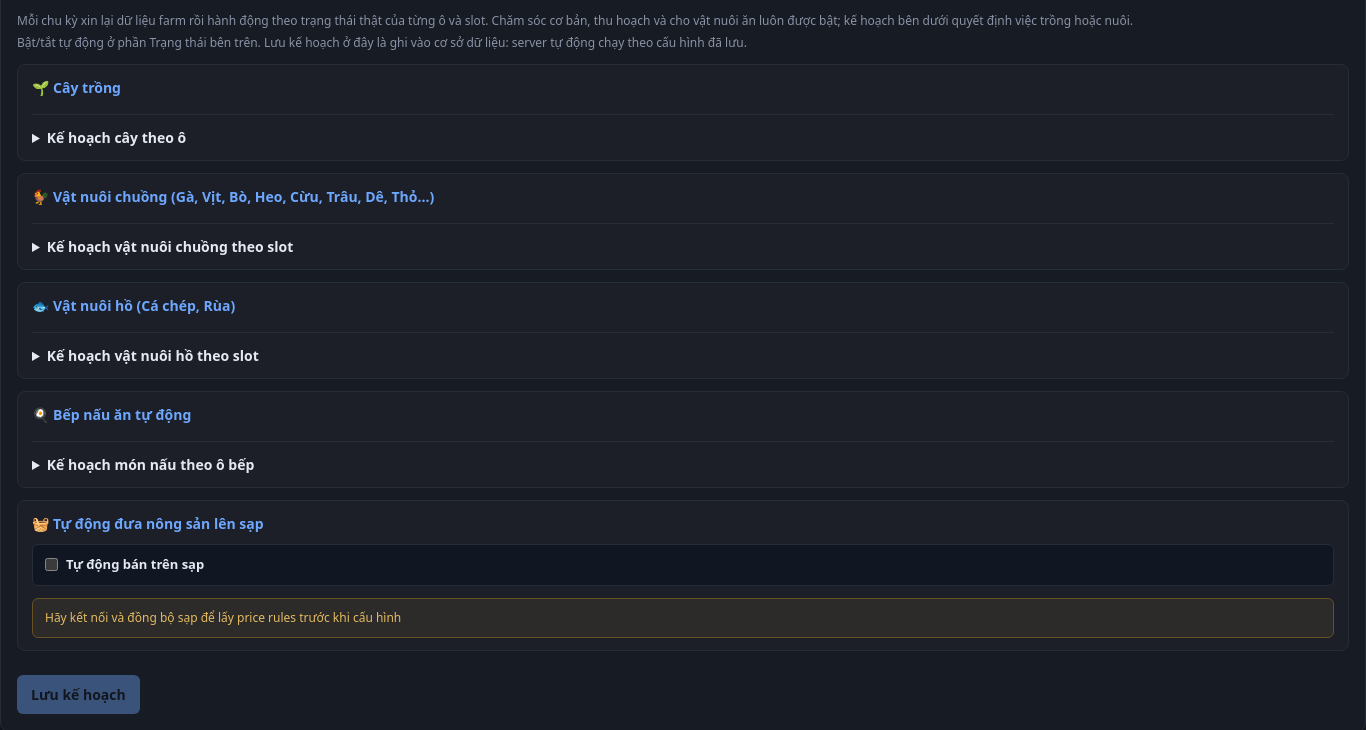
Test: revision conflict giữ draft local và chỉ tải current khi người dùng chọn
Click the heading "Kế hoạch cây theo ô" at (116, 138), box [47, 128, 186, 147]
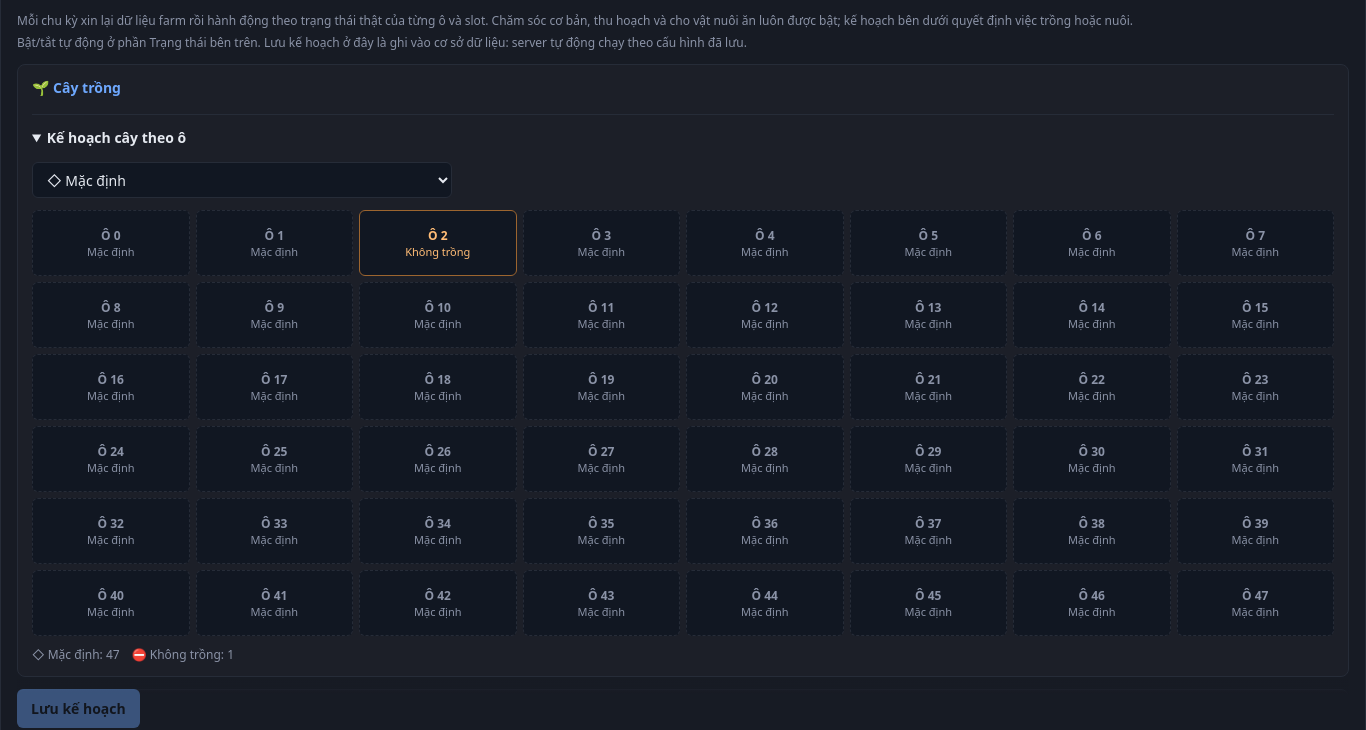
Select "⛔ Không trồng" in the dropdown named "Chọn trạng thái để tô" at (242, 180), box [32, 162, 452, 198]
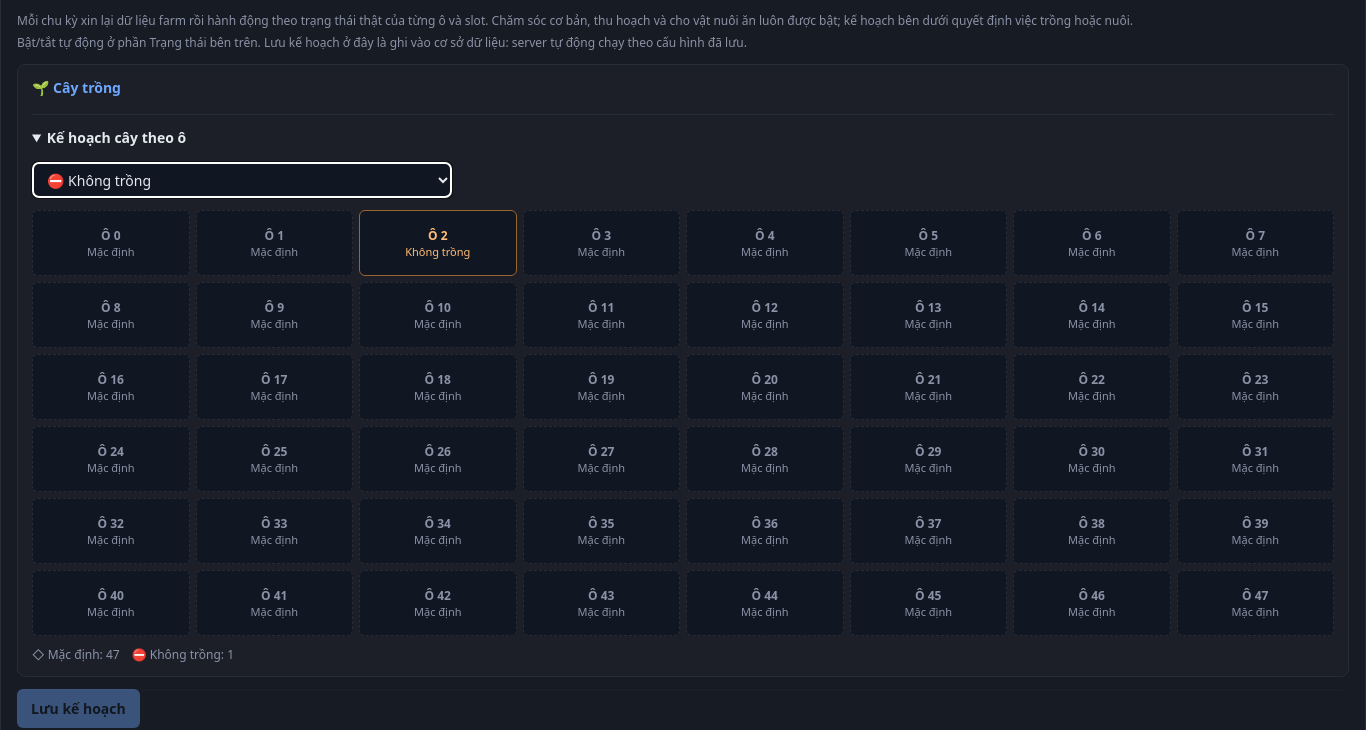
Click the button "Ô 7 Mặc định" at (1255, 243), box [1176, 210, 1334, 276]
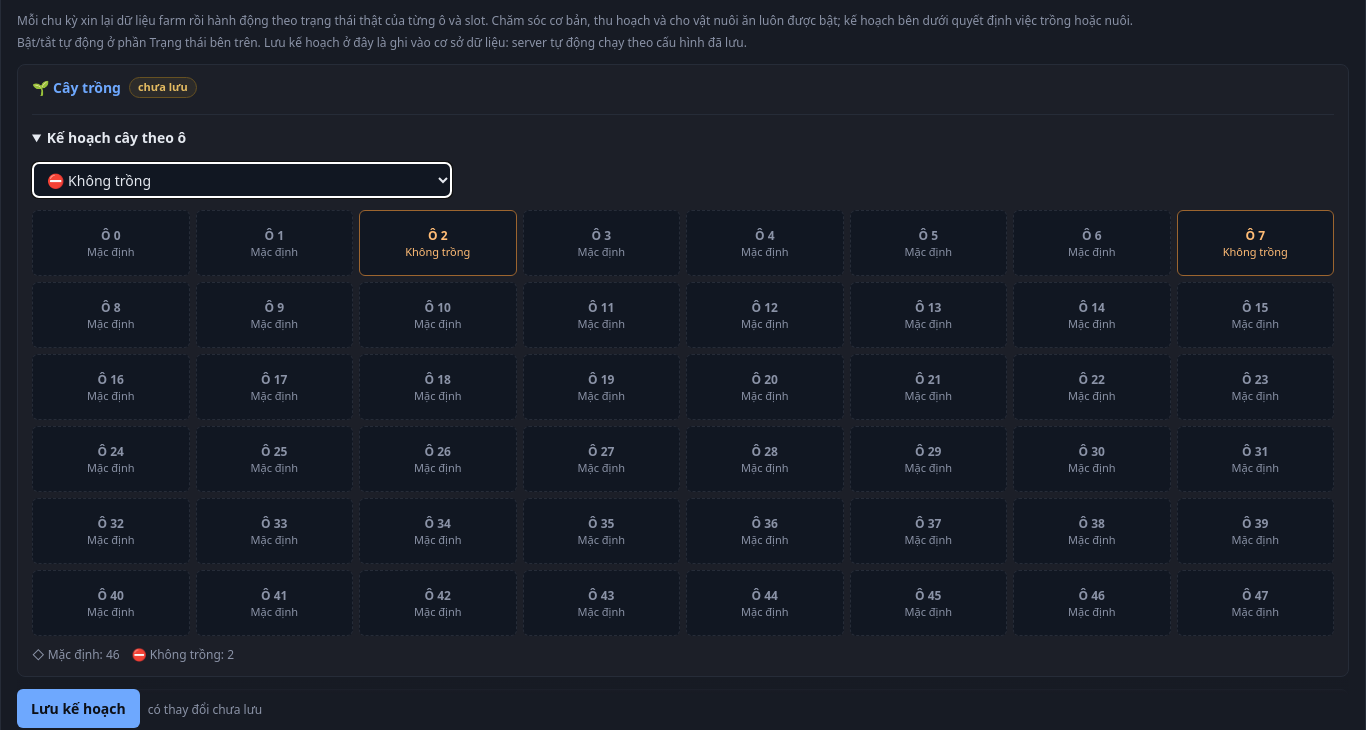
Click the button "Lưu kế hoạch" at (78, 708), box [17, 689, 140, 728]
(page scrolled)
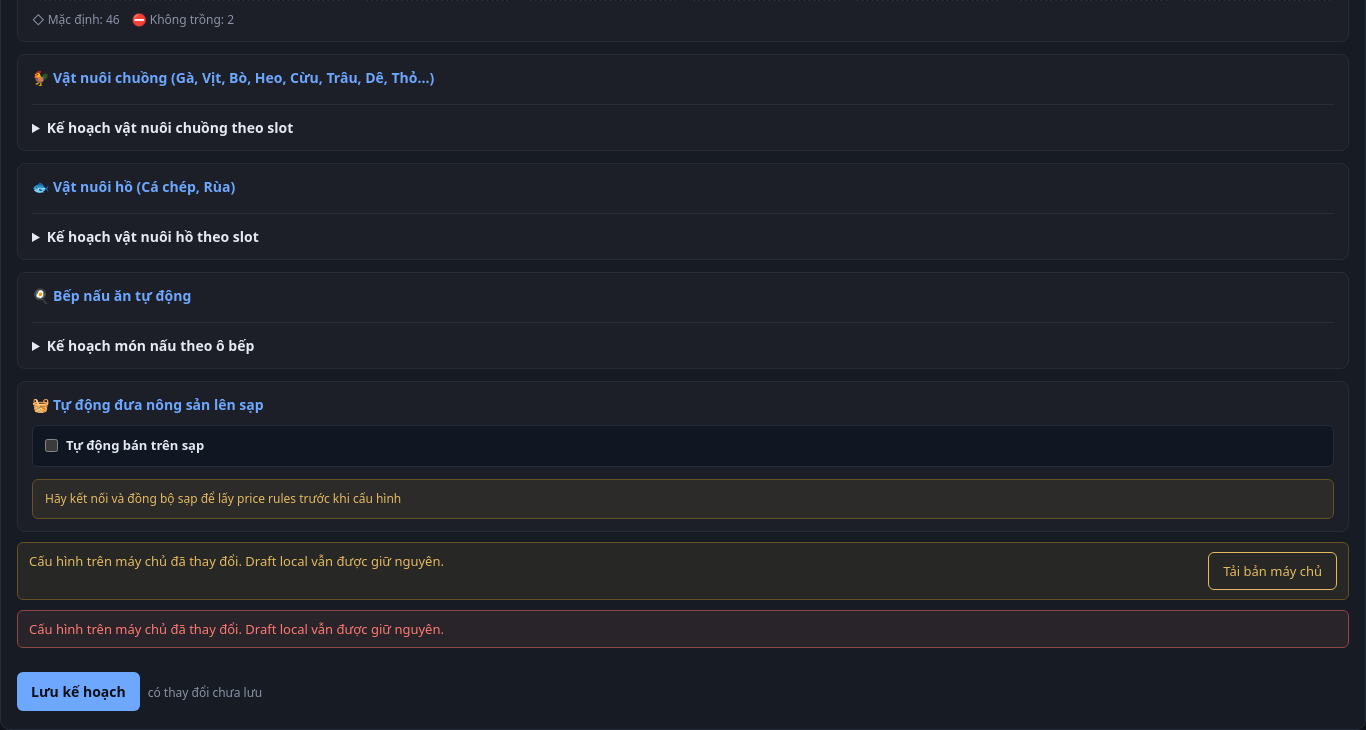
Now the button "Tải bản máy chủ" is shown
Click the button "Tải bản máy chủ" at (1273, 571), box [1208, 552, 1337, 590]
(page scrolled)
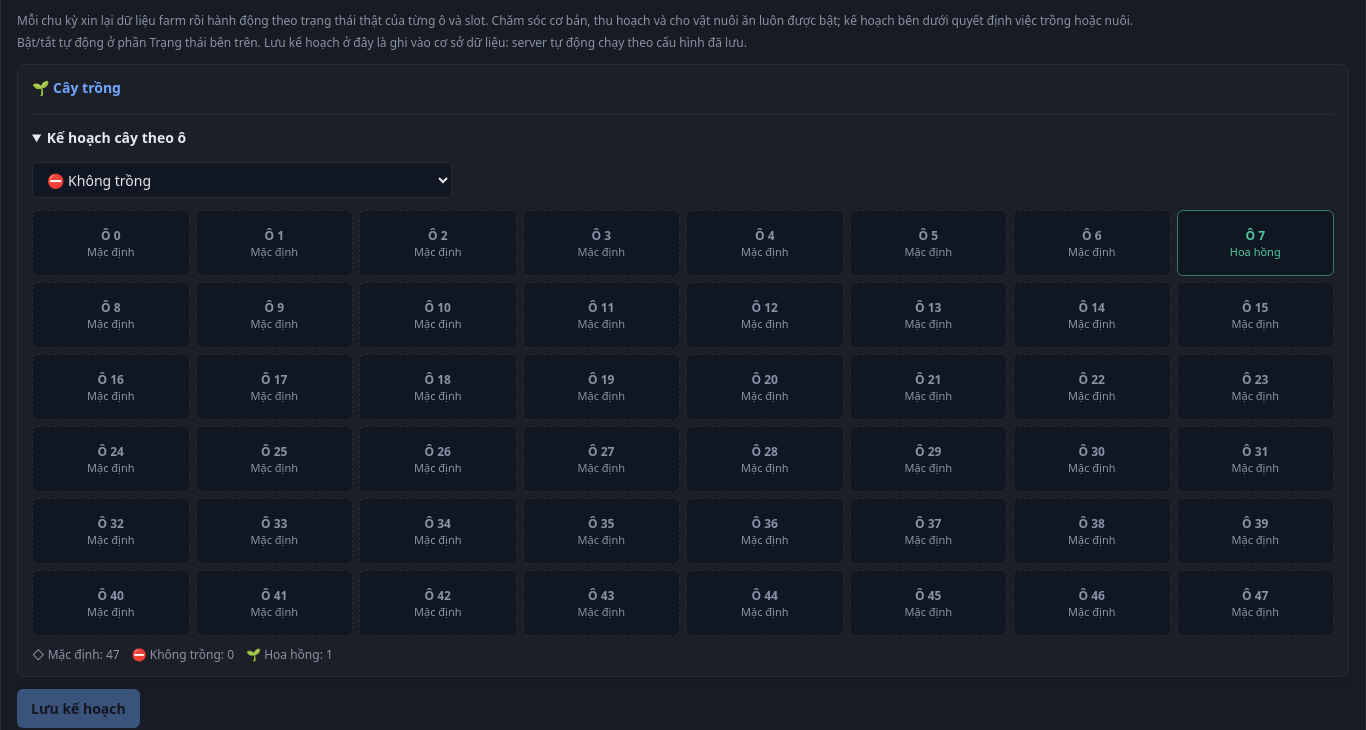
Now the button "Ô 7 Hoa hồng" is shown, box [1176, 210, 1334, 276]
